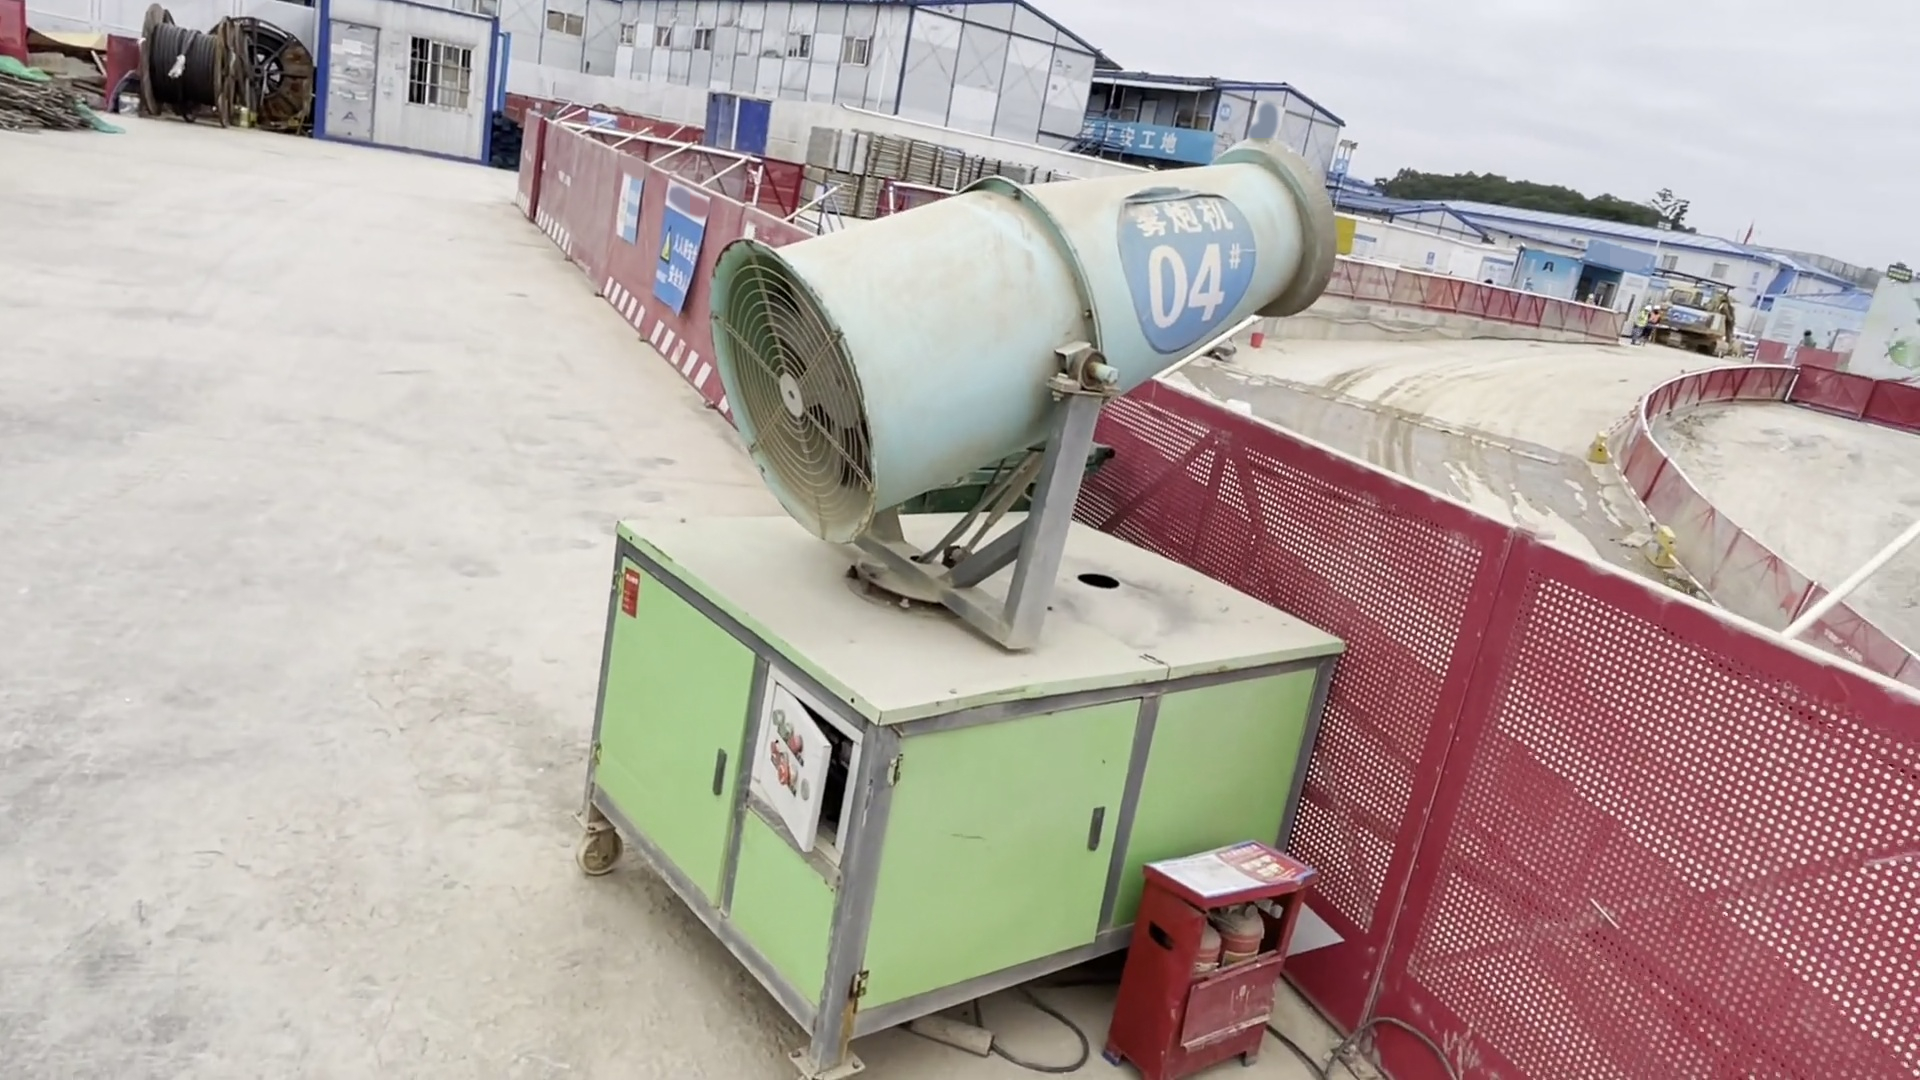fence: (1374, 502, 1919, 1080), (1091, 381, 1382, 1023), (516, 117, 649, 344), (1772, 353, 1920, 429), (1494, 297, 1629, 342), (1346, 262, 1487, 303)
slogan: (655, 222, 694, 298)
